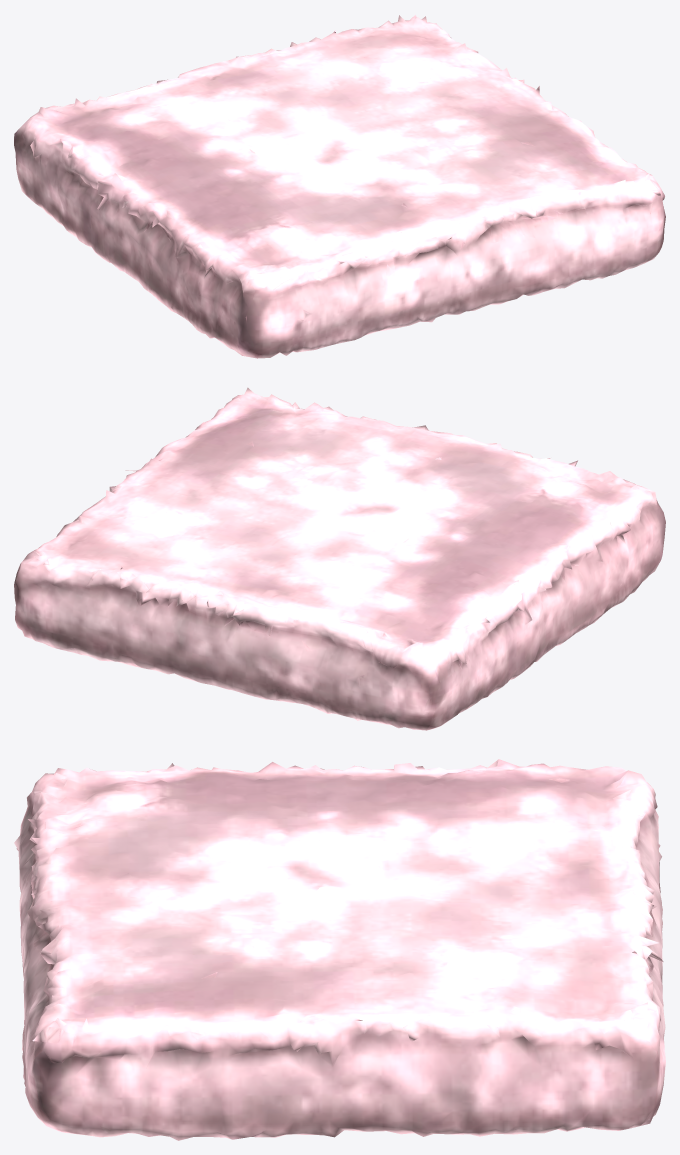
The model's file is Pink_square_rug.glb.
3 renders of one model, top to bottom at view 1: azimuth 30°, elevation 25°; view 2: azimuth 150°, elevation 25°; view 3: azimuth 270°, elevation 25°, orthographic. The views are drawn at different scales.
Parts seen in each view (by area): view 1: Mesh_0; view 2: Mesh_0; view 3: Mesh_0.
Part boxes in pixels (<box>): Mesh_0: <box>14,14,665,358</box>; Mesh_0: <box>14,387,665,730</box>; Mesh_0: <box>14,759,665,1140</box>.
Bounding box in the file's own units: 1.86 × 0.3771 × 1.83.
1 material, 1 textured.
